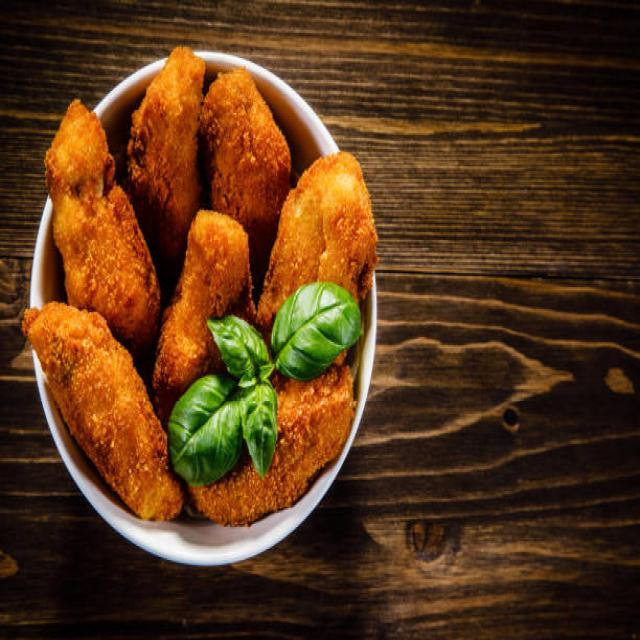Frango: (20, 42, 378, 529)
